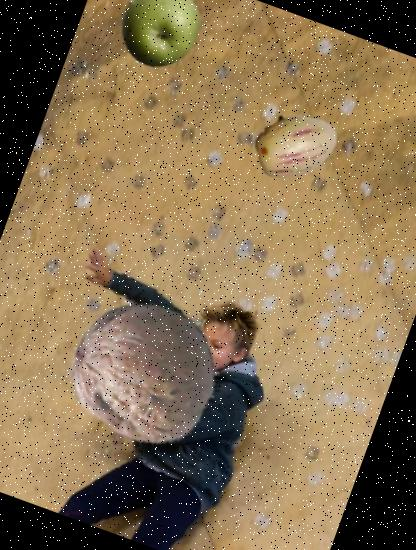Apple: (104, 0, 212, 80)
Pepino: (240, 90, 349, 199)
Walnut: (49, 277, 239, 467)
